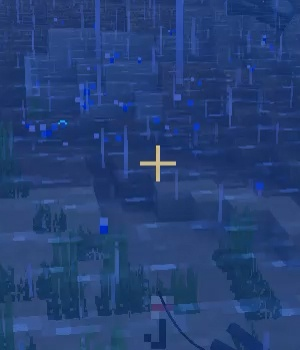down: (140, 290, 179, 348)
